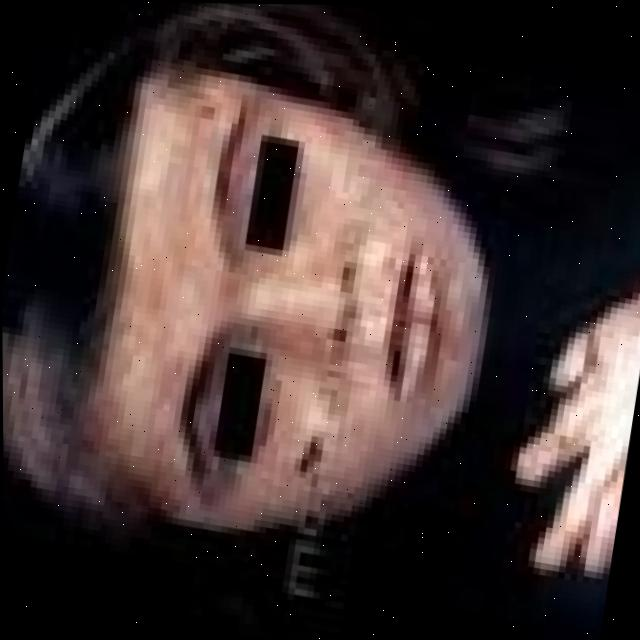Melasma: (260, 161, 421, 510), (141, 100, 229, 274)
